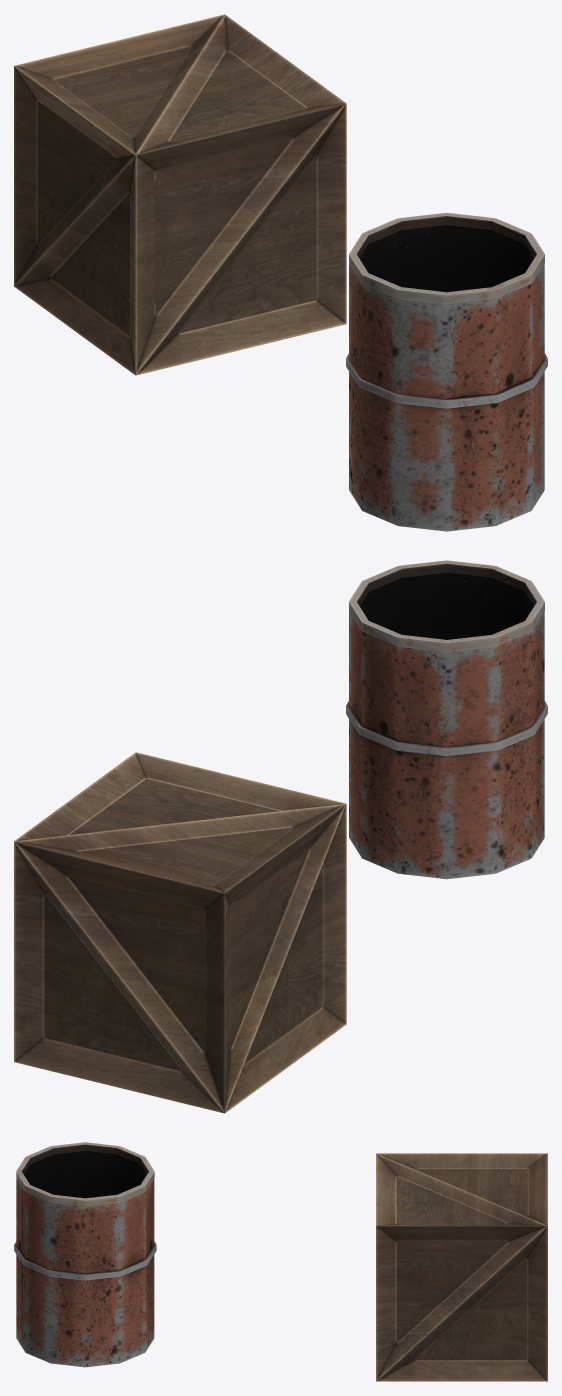
The model's file is Box n Barell.fbx.
3 views of the same model, one above another, from view 1: azimuth 30°, elevation 25°; view 2: azimuth 150°, elevation 25°; view 3: azimuth 270°, elevation 25° (orthographic). The views are drawn at different scales.
Visible parts, largest first — view 1: Cube.025, Cylinder.008; view 2: Cube.025, Cylinder.008; view 3: Cube.025, Cylinder.008.
Part boxes in pixels (x1,y1,x2,y2): Cube.025: (14,14,346,375); Cylinder.008: (346,212,547,531); Cube.025: (14,752,346,1113); Cylinder.008: (346,560,547,879); Cube.025: (376,1153,547,1381); Cylinder.008: (14,1142,156,1367).
Bounding box in the file's own units: 0.8866 × 0.9896 × 2.75.
